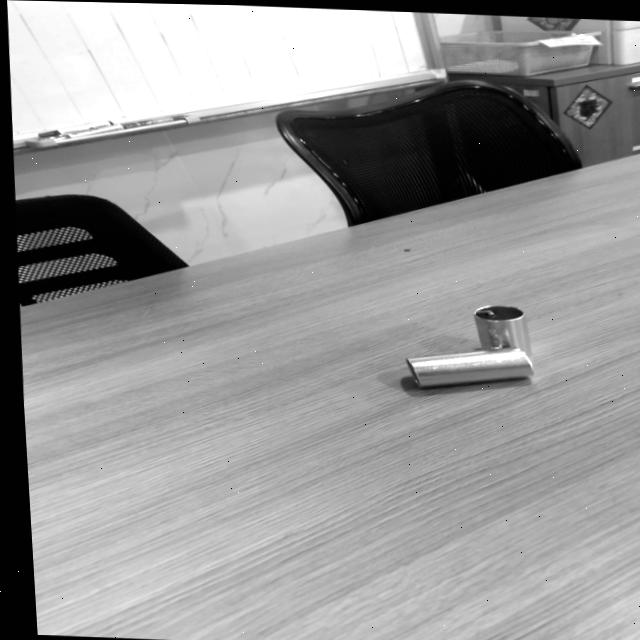Co_Lon: (403, 342, 534, 388)
Co_Nho: (471, 296, 533, 367)
